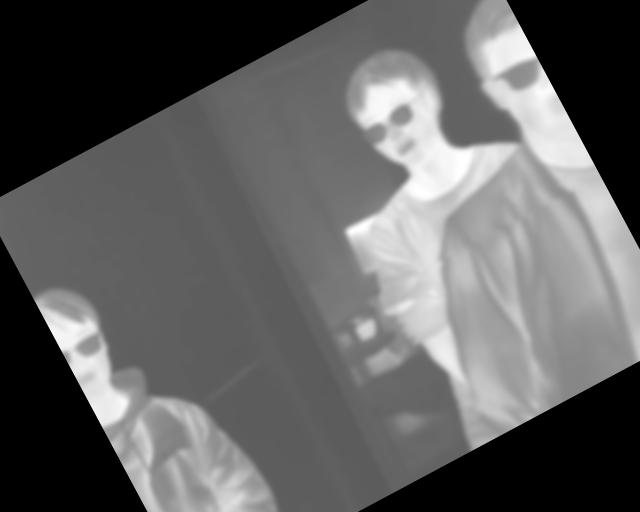face: (325, 30, 465, 179), (33, 273, 128, 397)
